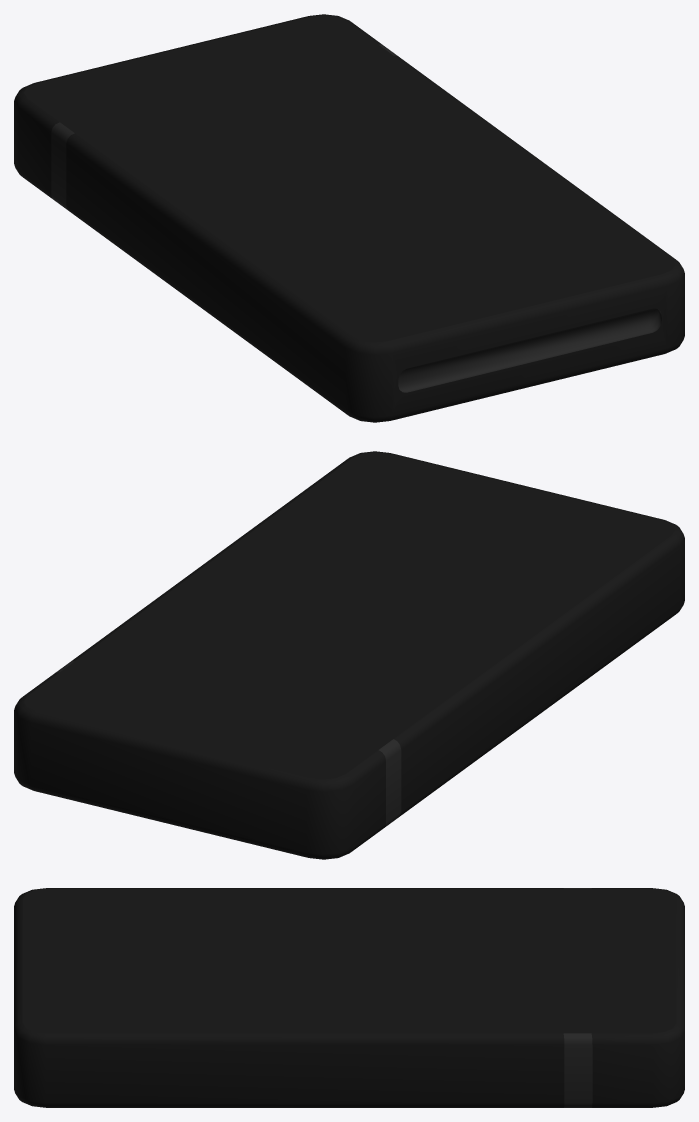
The model's file is SM_Phone.fbx.
3 views of the same model, one above another, from view 1: azimuth 30°, elevation 25°; view 2: azimuth 150°, elevation 25°; view 3: azimuth 270°, elevation 25° (orthographic). The views are drawn at different scales.
Visible parts, largest first — view 1: SM_Phone; view 2: SM_Phone; view 3: SM_Phone.
Part boxes in pixels (x1,y1,x2,y2): SM_Phone: (14, 14, 684, 422); SM_Phone: (14, 451, 684, 859); SM_Phone: (14, 888, 684, 1107).
Size of the model in its own units: 21.41 by 4.85 by 40.
